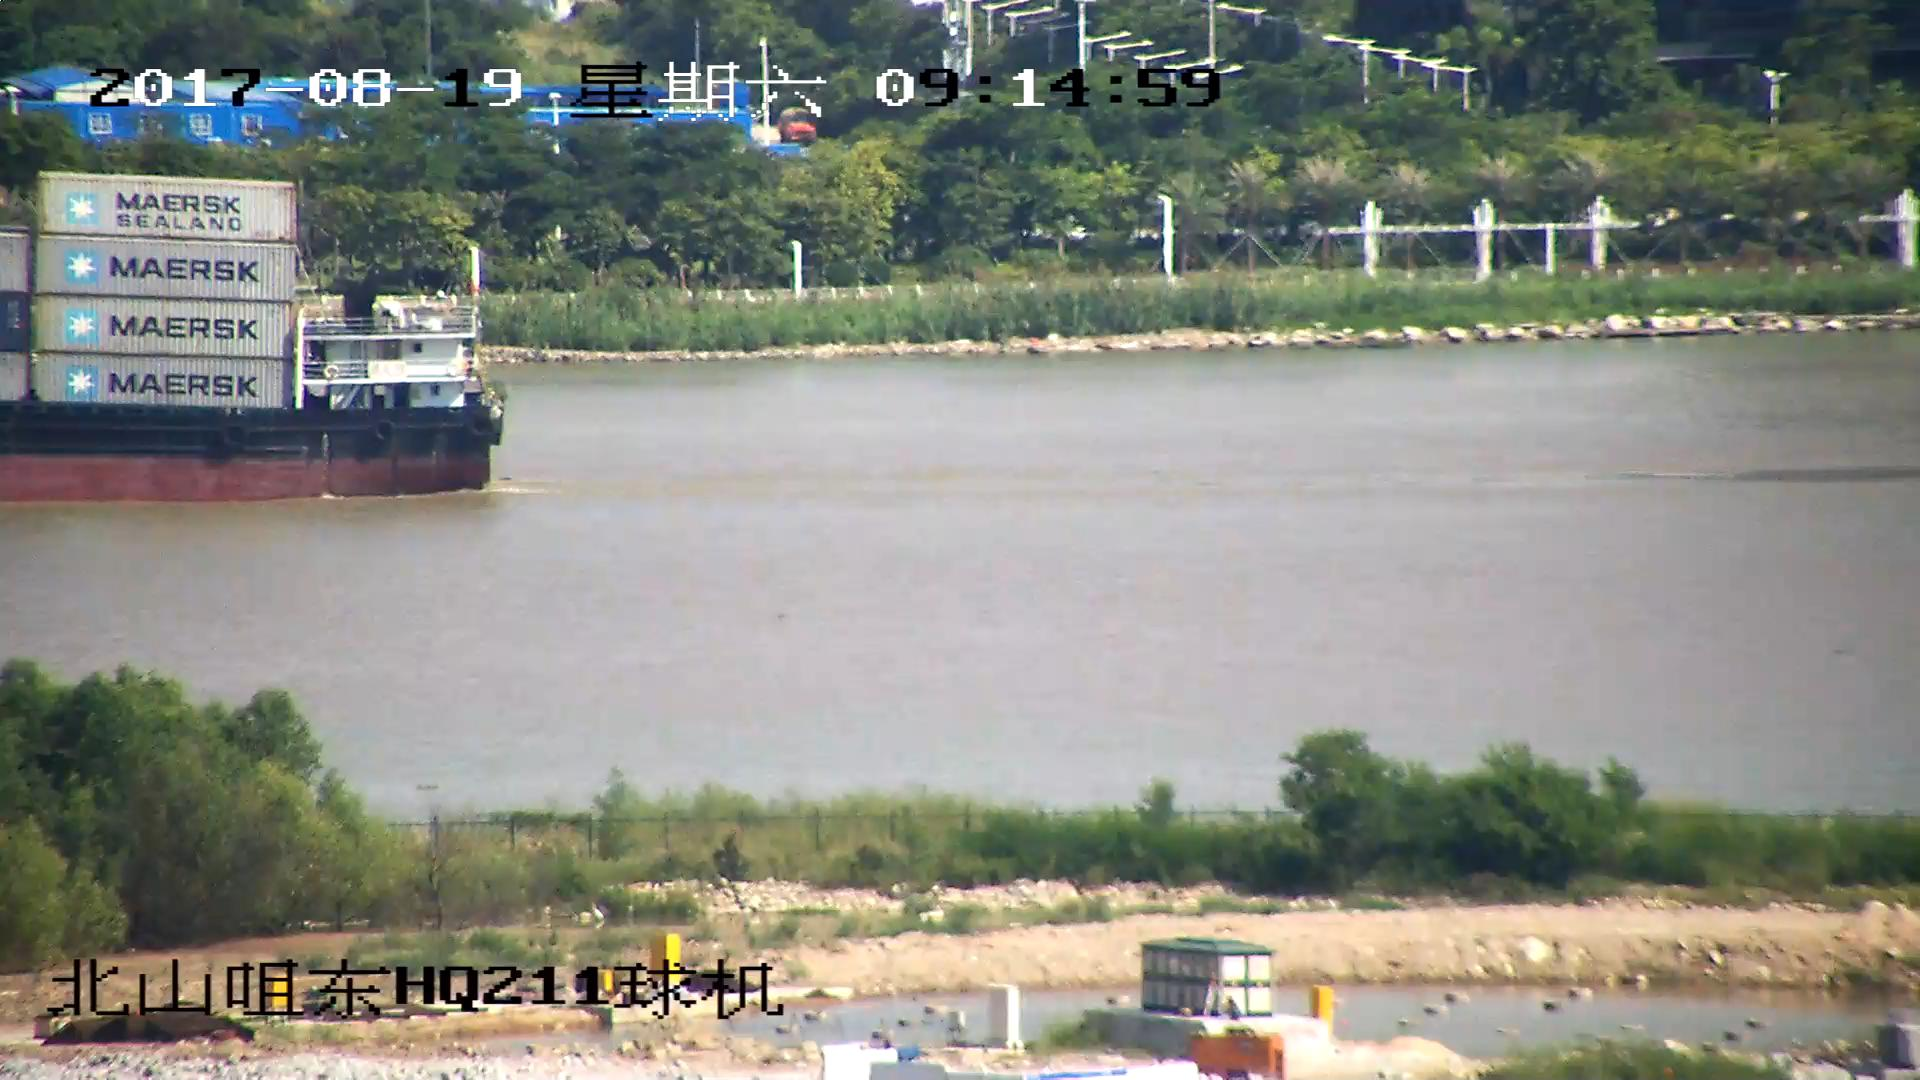container ship: (1, 172, 503, 507)
